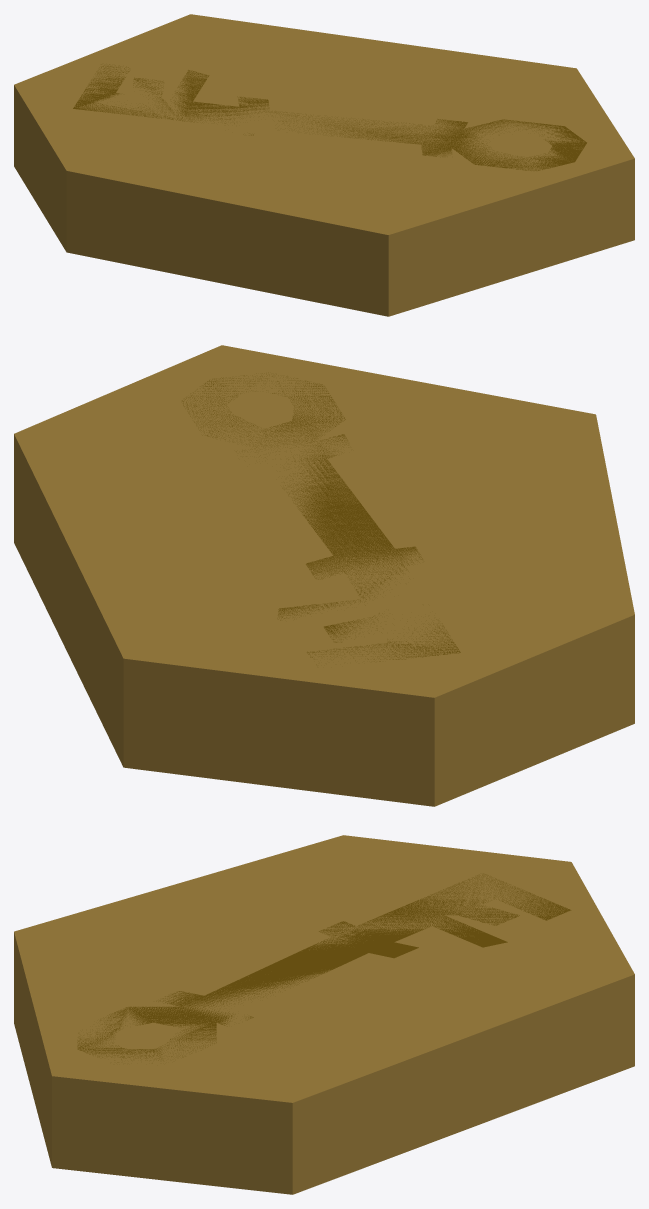
Rendered from inv_key_imprint.obj.
3 renders of one model, top to bottom at view 1: azimuth 30°, elevation 25°; view 2: azimuth 150°, elevation 25°; view 3: azimuth 270°, elevation 25°, orthographic. The views are drawn at different scales.
Bounding box in the file's own units: 0.3906 × 0.0625 × 0.3828.
